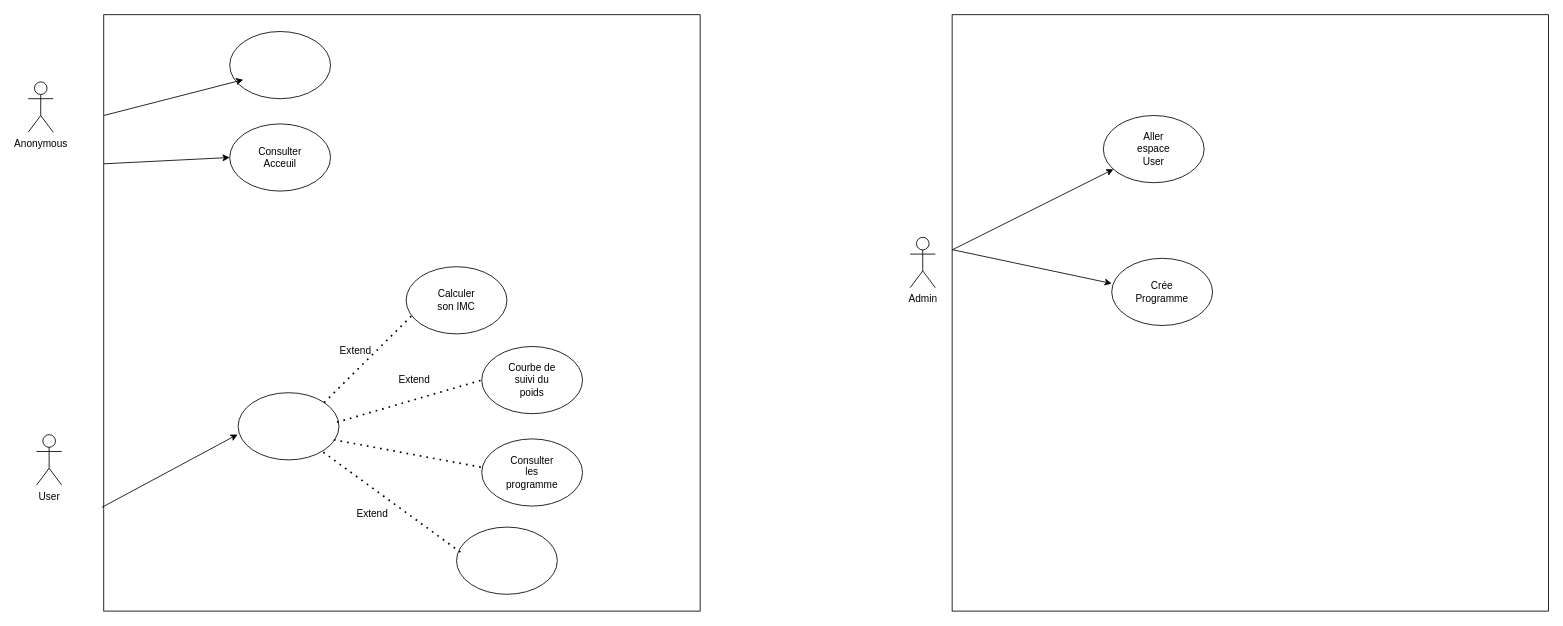
The diagram is 1563 pixels wide and 626 high, and some of its shapes have lost their labels. Here are the shapes that lost their labels. From the top down, the centre of each, then its label:
At (x=280, y=65): "S'inscrire".
At (x=288, y=426): "Se connecter".
At (x=506, y=560): "Diriger sur Profil".
